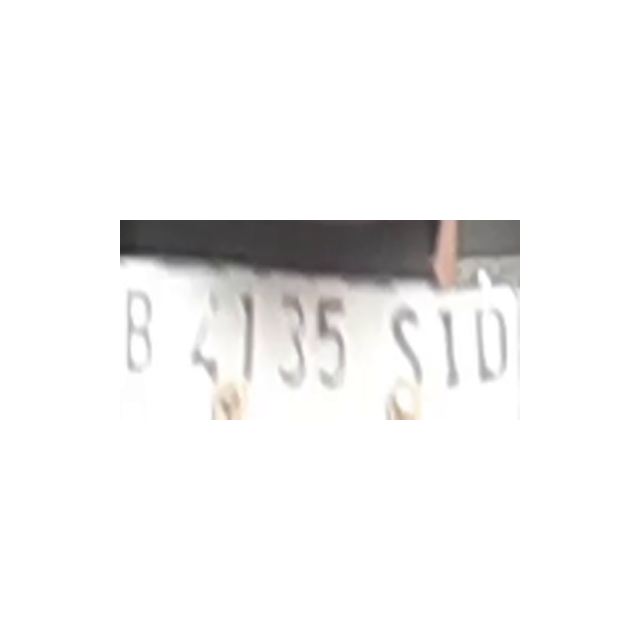contain: (469, 296, 511, 394), (427, 296, 469, 394), (384, 296, 426, 394), (307, 294, 349, 392), (266, 291, 308, 389), (226, 289, 268, 387), (187, 288, 229, 386), (125, 285, 167, 383)
